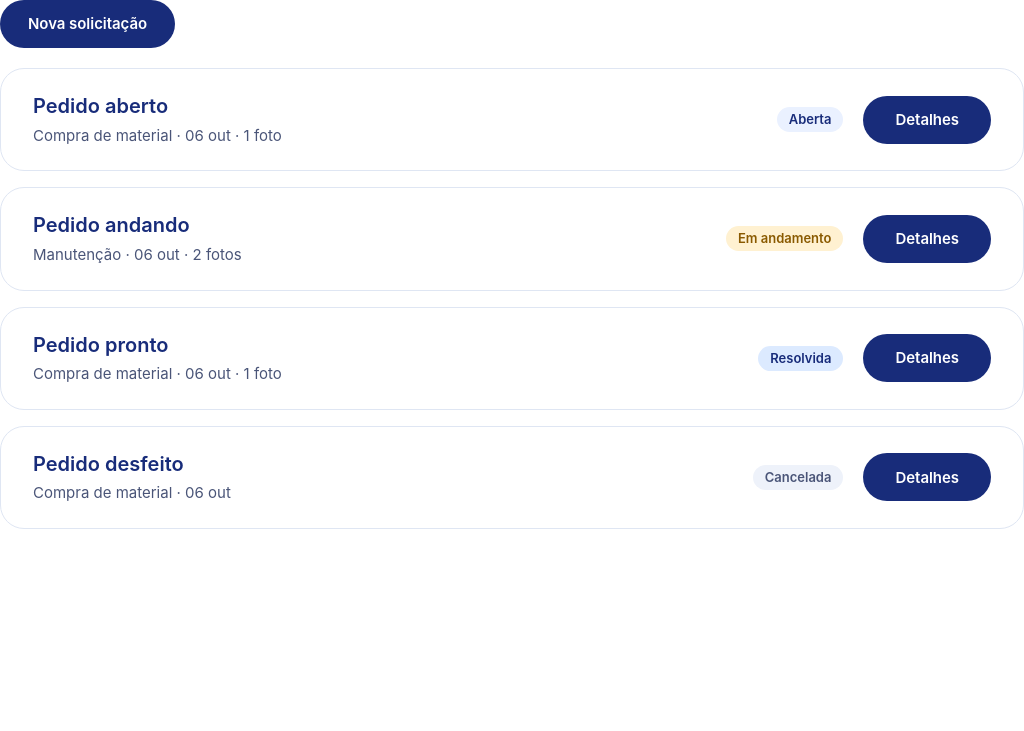
Scenario: Minhas solicitacoes (funcionario) › lista as proprias com a situacao em portugues; o detalhe so abre sob demanda
This screenshot has width=1024, height=731.
Expected: the text "Aberta" is shown, [777,107,844,132]
Expected: the text "Em andamento" is shown, [726,226,844,251]
What coordinates should you click on to do the following:
click the button with aria-label "Abrir detalhes da solicitação Pedido andando"
I would click on:
 (927, 239)
Its box is [864,215,991,263].
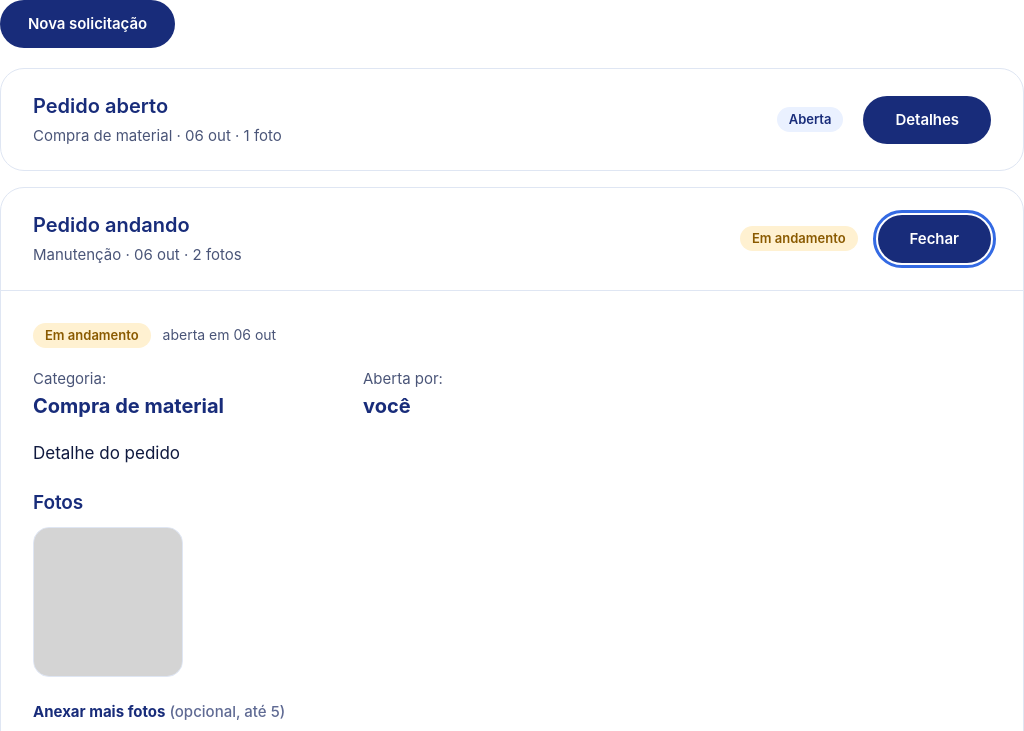
Expected: the text "Detalhe do pedido" is shown, [33,443,180,463]
